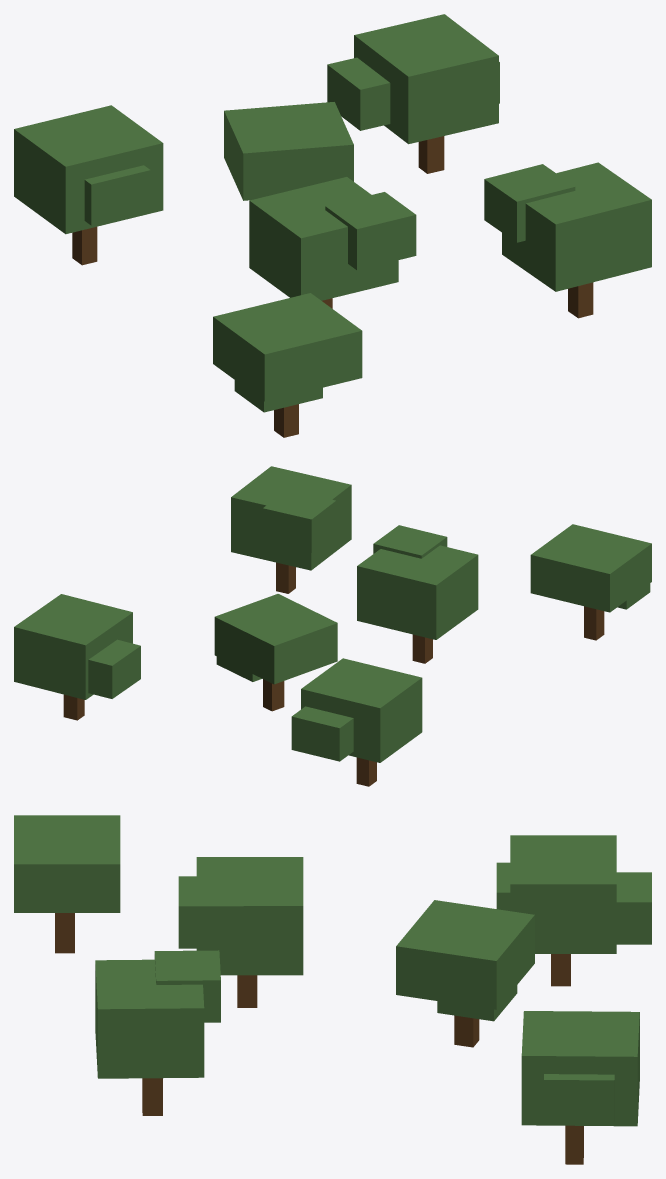
Rendered from trees2.gltf.
The picture shows the model from 3 angles, top to bottom: view 1: azimuth 30°, elevation 25°; view 2: azimuth 150°, elevation 25°; view 3: azimuth 270°, elevation 25°; orthographic projection. The views are drawn at different scales.
Visible parts, largest first — view 1: Cube.015, Cube.016, Cube.006, Cube.004, Cube.005, Cube.021, Cube.003, Cube.017, Cube.010, Cube.007, Cube.012, Cube.013 (+3 smaller); view 2: Cube.005, Cube.015, Cube.021, Cube.006, Cube.004, Cube.016, Cube.017, Cube.009, Cube.010, Cube.003, Cube.011, Cube.020 (+4 smaller); view 3: Cube.021, Cube.016, Cube.006, Cube.004, Cube.015, Cube.005, Cube.003, Cube.014, Cube.017, Cube.009, Cube.019, Cube.011 (+6 smaller).
Part boxes in pixels (<box>): Cube.015: <box>354,14,498,144</box>; Cube.016: <box>502,162,651,291</box>; Cube.006: <box>14,105,163,234</box>; Cube.004: <box>213,293,362,401</box>; Cube.005: <box>249,177,398,300</box>; Cube.021: <box>224,102,353,200</box>; Cube.003: <box>325,192,416,270</box>; Cube.017: <box>484,164,575,242</box>; Cube.010: <box>327,57,390,130</box>; Cube.007: <box>84,165,150,225</box>; Cube.012: <box>234,380,322,412</box>; Cube.013: <box>418,136,444,173</box>; Cube.005: <box>357,545,478,639</box>; Cube.015: <box>14,594,132,699</box>; Cube.021: <box>214,594,337,684</box>; Cube.006: <box>301,658,422,762</box>; Cube.004: <box>530,524,651,612</box>; Cube.016: <box>231,466,351,570</box>; Cube.017: <box>263,489,336,552</box>; Cube.009: <box>291,706,353,761</box>; Cube.010: <box>88,639,140,698</box>; Cube.003: <box>373,525,447,558</box>; Cube.011: <box>584,606,604,640</box>; Cube.020: <box>263,679,284,711</box>; Cube.021: <box>396,900,534,1009</box>; Cube.016: <box>95,959,204,1078</box>; Cube.006: <box>510,835,616,953</box>; Cube.004: <box>14,815,120,912</box>; Cube.015: <box>521,1011,639,1126</box>; Cube.005: <box>196,857,303,975</box>; Cube.003: <box>178,876,243,948</box>; Cube.014: <box>544,1074,614,1122</box>; Cube.017: <box>154,950,220,1022</box>; Cube.009: <box>616,872,651,944</box>; Cube.019: <box>437,985,517,1021</box>; Cube.011: <box>55,913,74,953</box>.
Bounding box in the file's own units: 1.71 × 0.4801 × 1.85.
